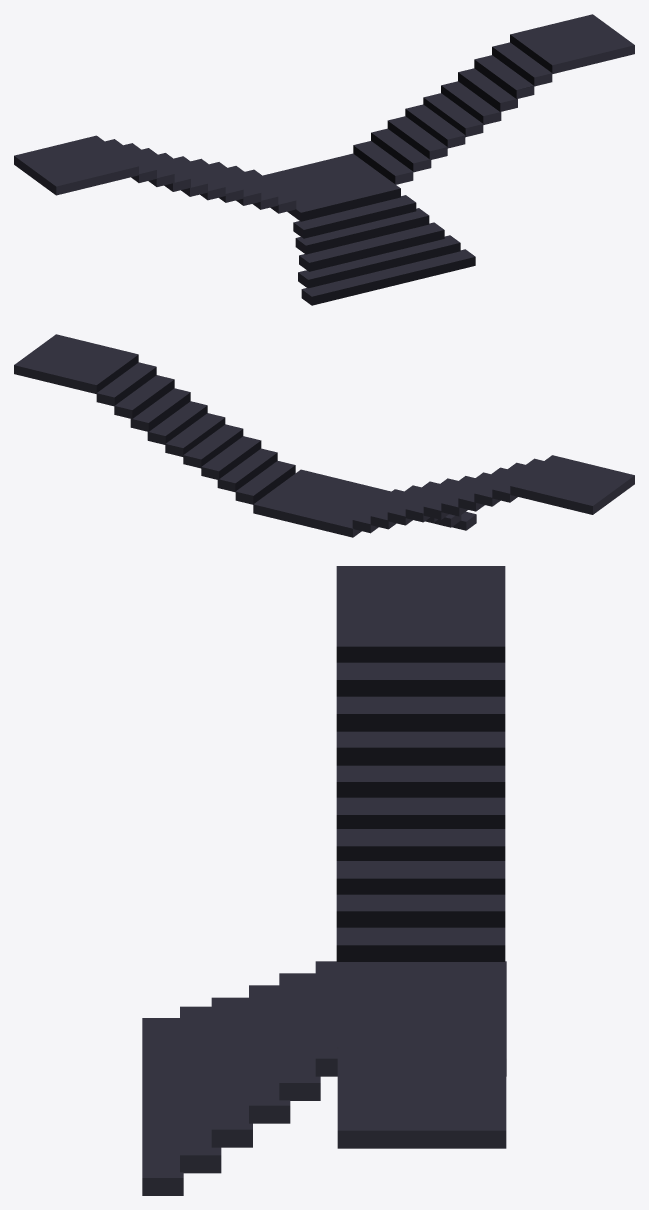
The model's file is Ballroom_staircase.fbx.
3 views of the same model, one above another, from view 1: azimuth 30°, elevation 25°; view 2: azimuth 150°, elevation 25°; view 3: azimuth 270°, elevation 25° (orthographic). The views are drawn at different scales.
Parts seen in each view (by area): view 1: polySurface18; view 2: polySurface18; view 3: polySurface18.
Part boxes in pixels (box(x1,y1,x2,y2)): polySurface18: box(14, 14, 634, 305); polySurface18: box(14, 334, 634, 537); polySurface18: box(142, 566, 506, 1195).
Bounding box in the file's own units: 88.49 × 19.59 × 24.12.
1 material, 1 textured.
